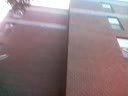window: (0, 12, 28, 96), (38, 46, 61, 62), (37, 88, 68, 96), (90, 66, 95, 73)
